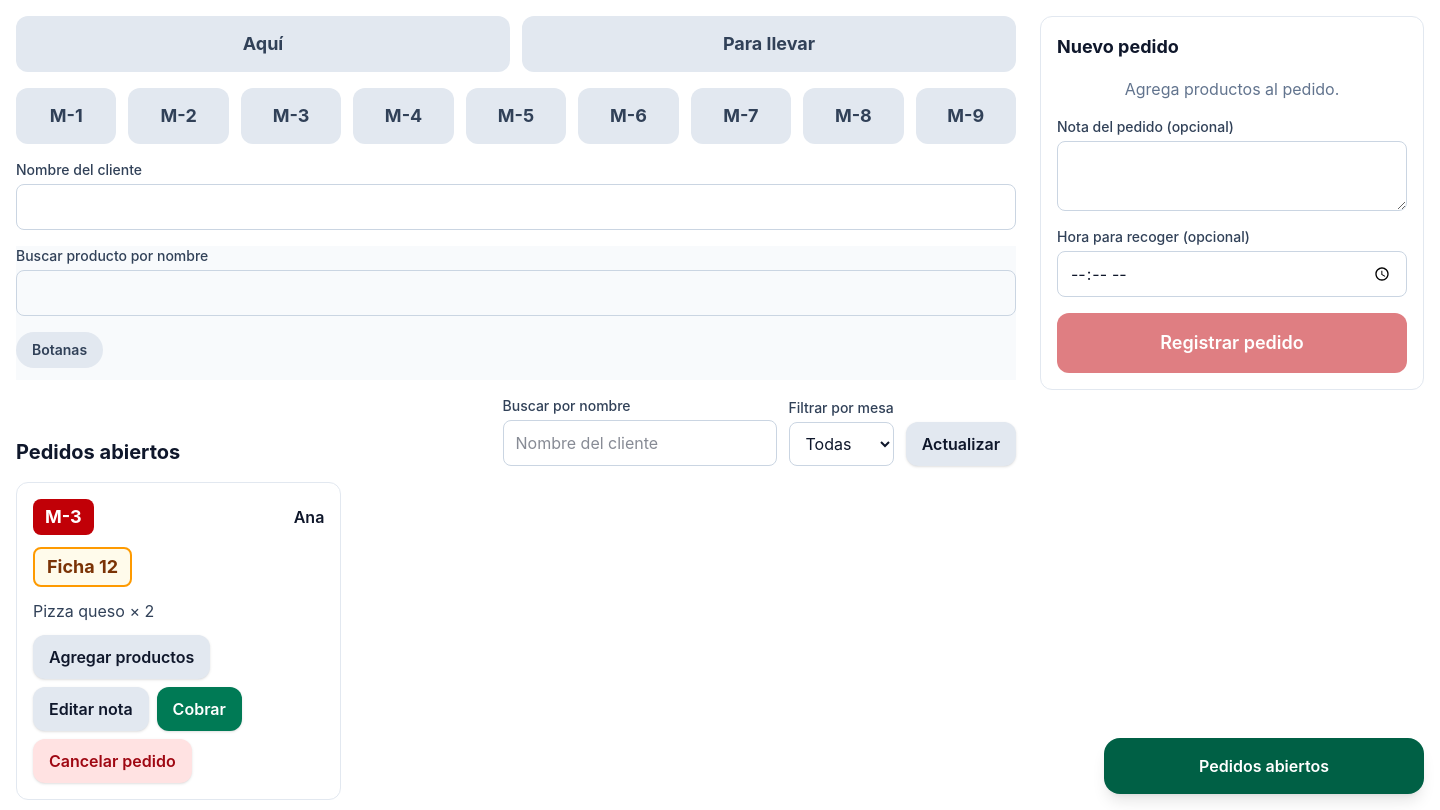
Scenario: OrdersPage › deselects the table when tapping it again
Click the button "Botanas" at [60, 350], box [16, 332, 103, 368]
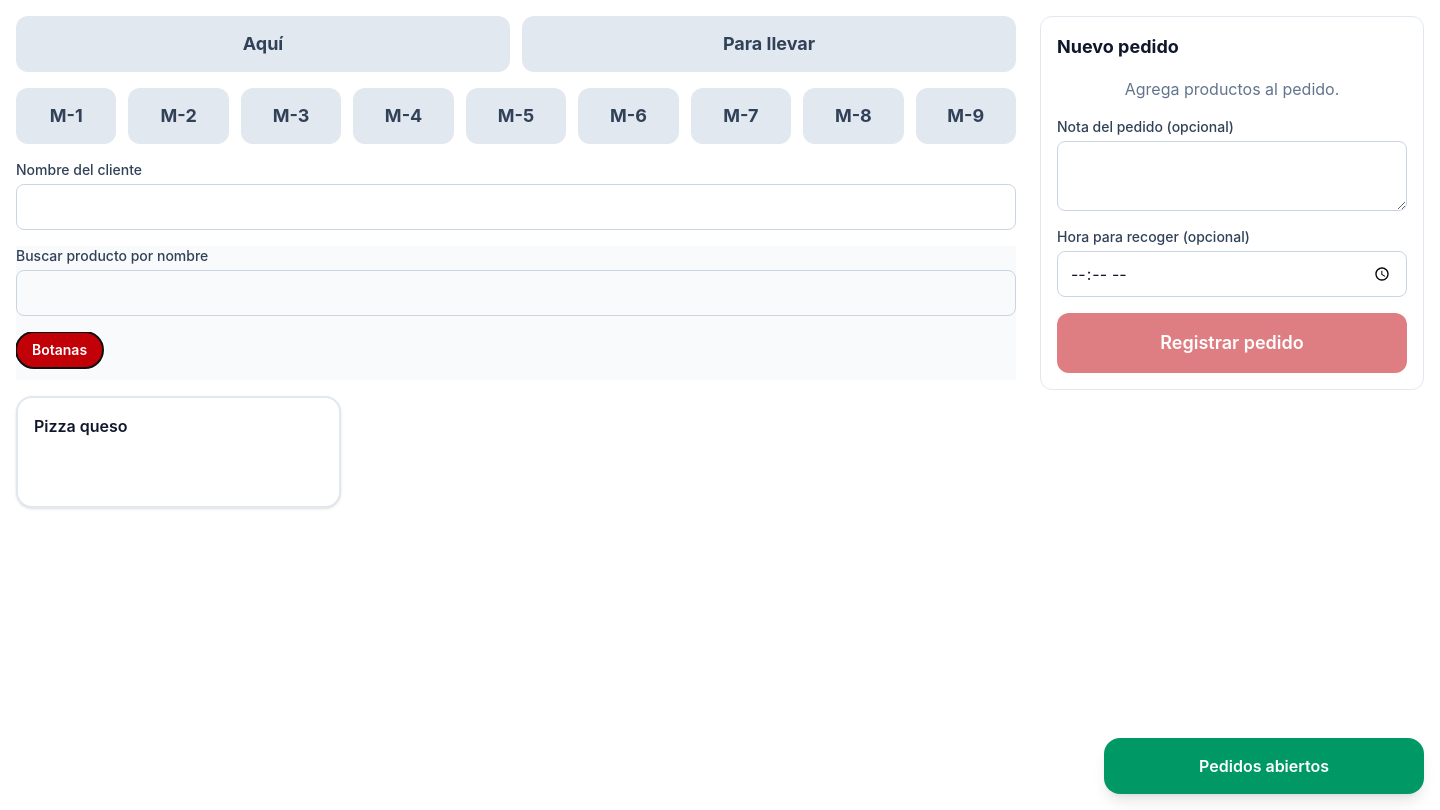
Click the button "Pizza queso" at [81, 426], box [16, 396, 341, 508]
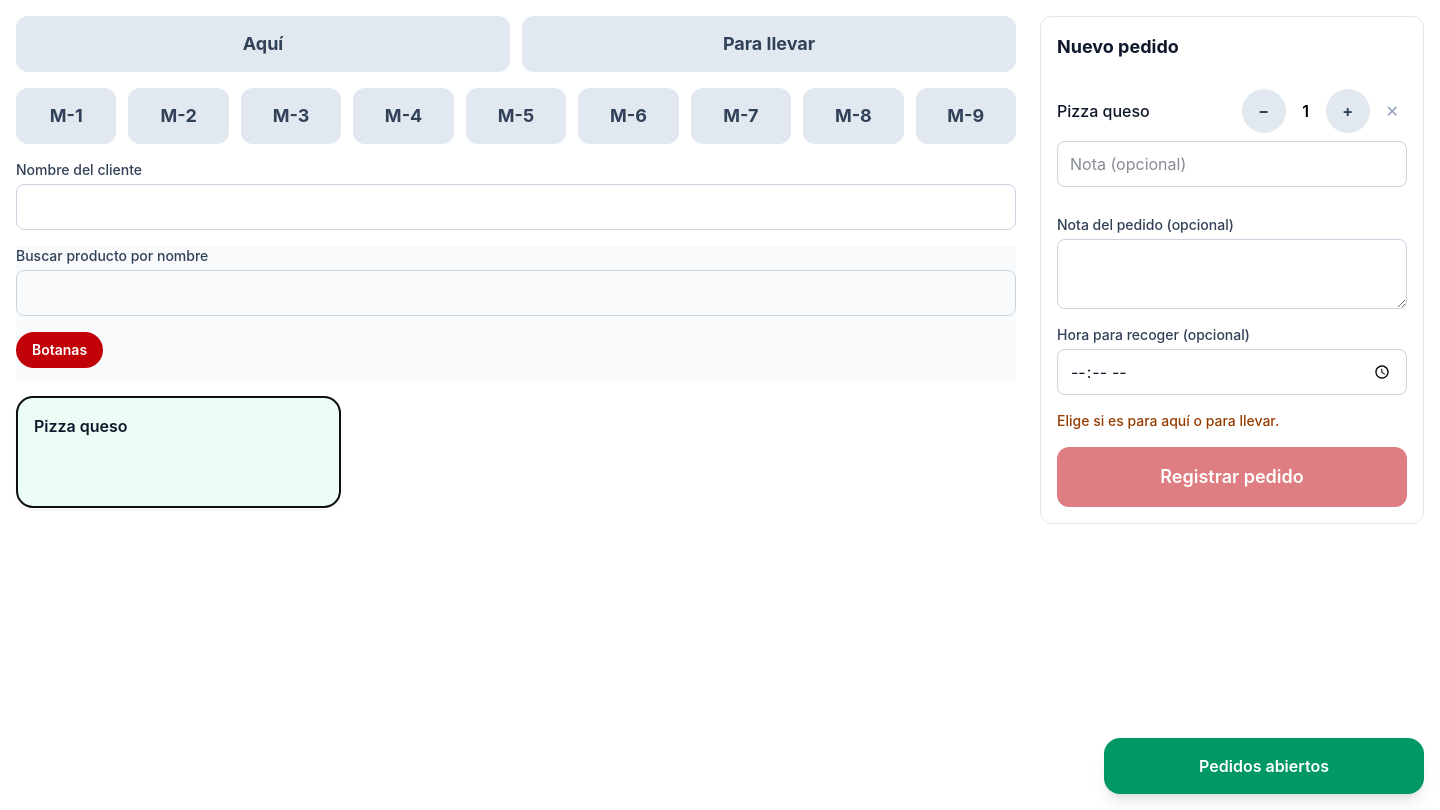
Click the button "Aquí" at [263, 44], box [16, 16, 510, 72]
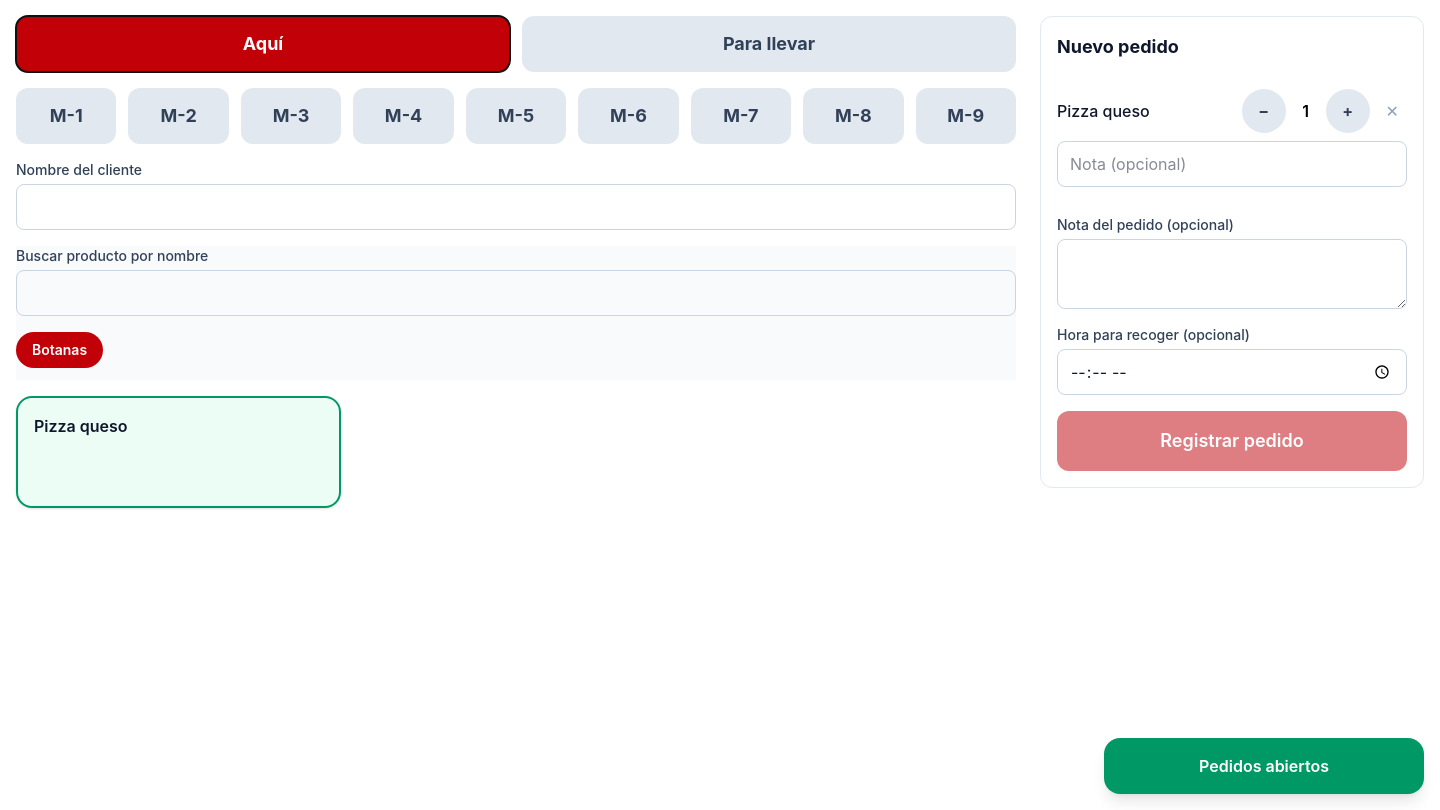
Click the button "M-5" at [516, 116], box [466, 88, 566, 144]
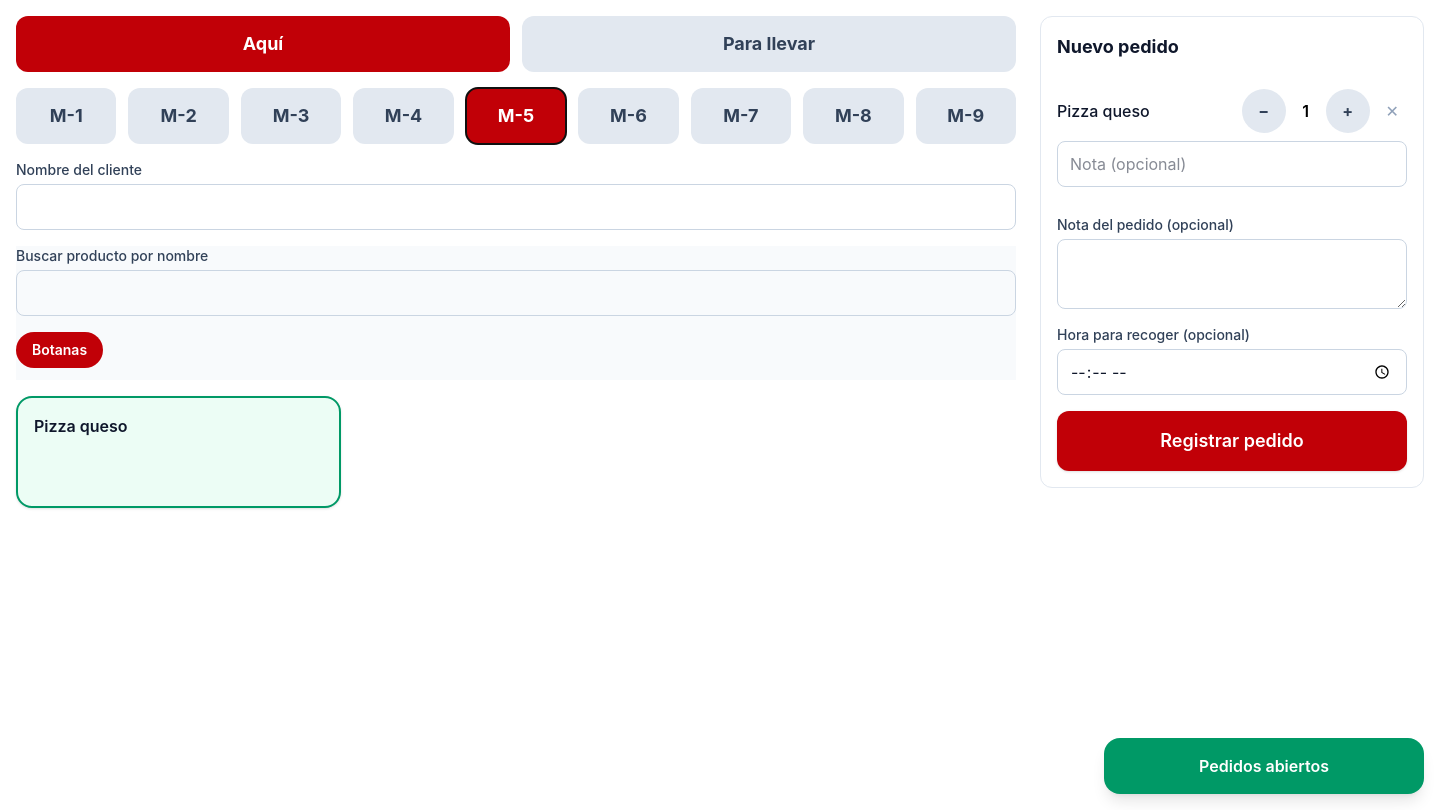
Now the button "Registrar pedido" is enabled, box [1057, 411, 1407, 471]
Click the button "M-5" at [516, 116], box [466, 88, 566, 144]
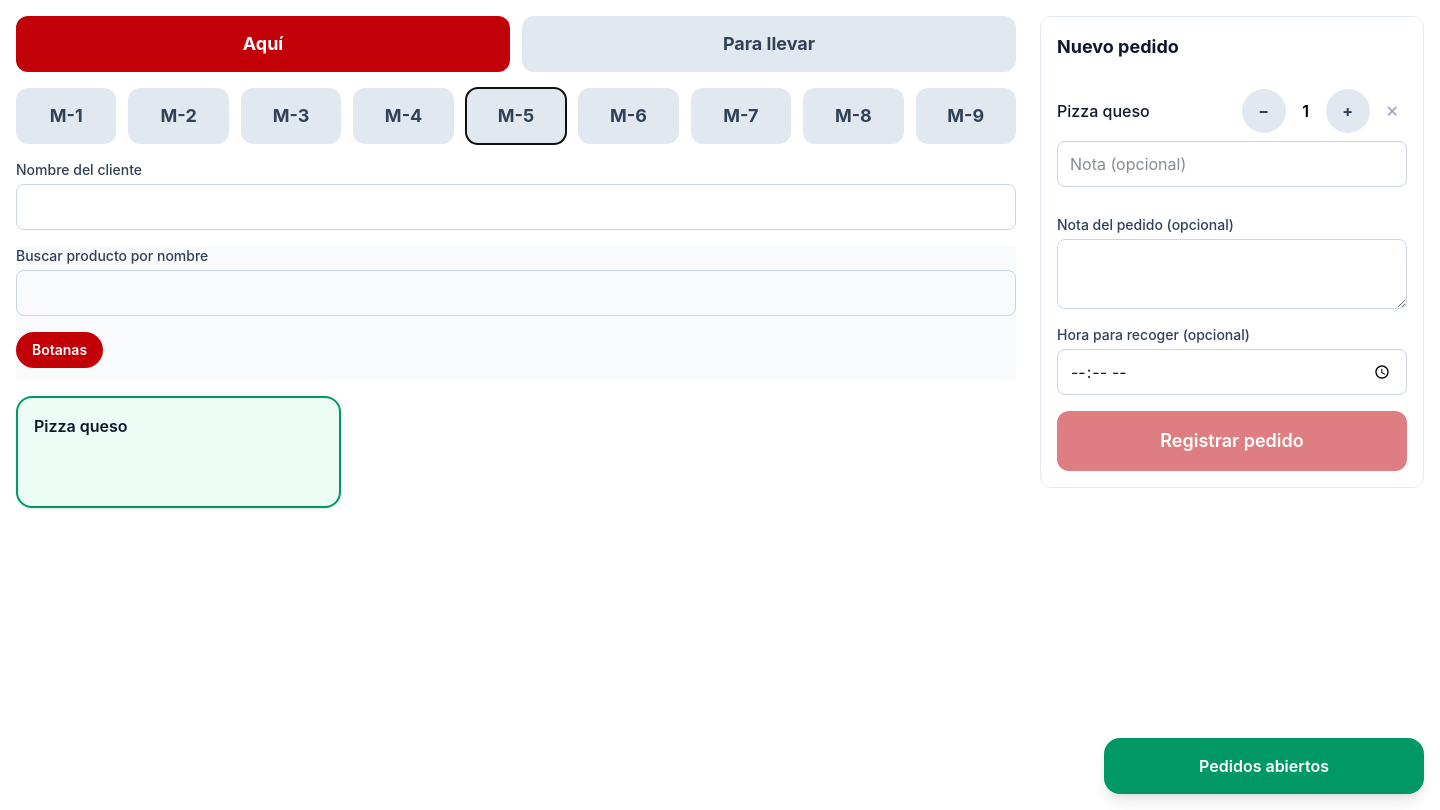
Now the button "Registrar pedido" is disabled, box [1057, 411, 1407, 471]
